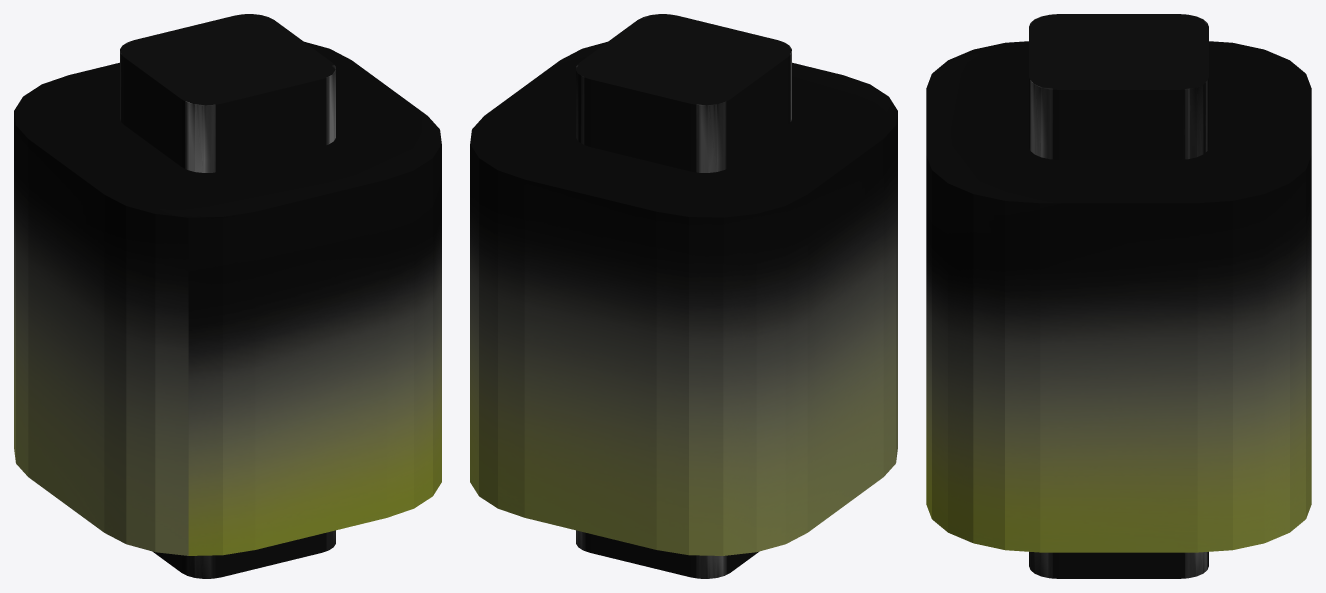
File: battery.obj
3 views of the same model, side by side, from view 1: azimuth 30°, elevation 25°; view 2: azimuth 150°, elevation 25°; view 3: azimuth 270°, elevation 25° (orthographic). The views are drawn at different scales.
Parts seen in each view (by area): view 1: Cube; view 2: Cube; view 3: Cube.
Part boxes in pixels (x1,y1,x2,y2): Cube: [14, 14, 441, 578]; Cube: [470, 14, 897, 578]; Cube: [926, 14, 1311, 578].
Size of the model in its own units: 0.75 by 1.05 by 0.75.
